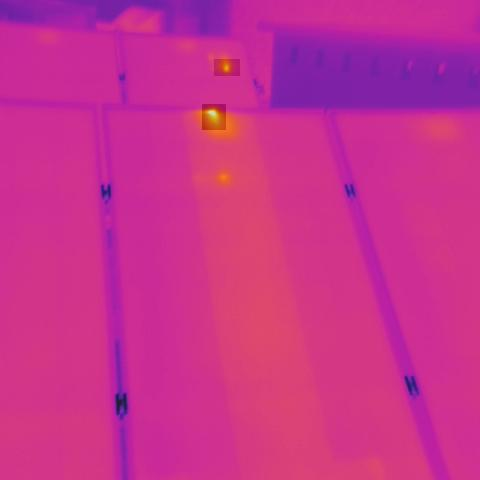fault: (202, 104, 226, 130), (214, 59, 240, 76)
